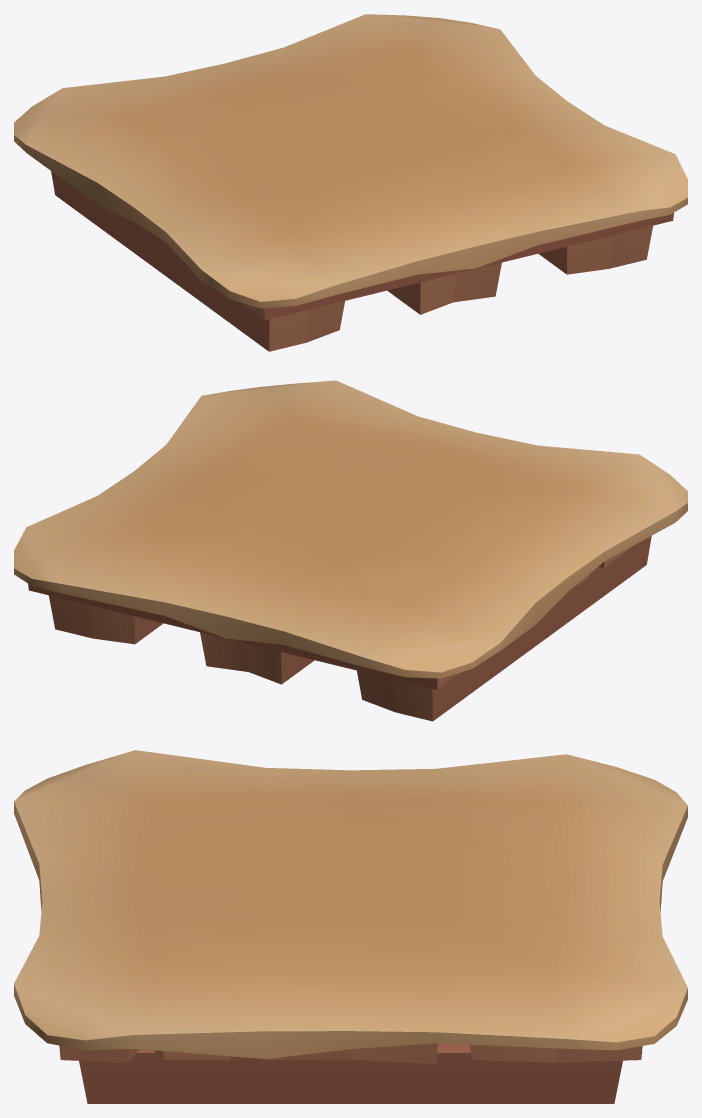
The model's file is pallet_wood_covered_a.glb.
The picture shows the model from 3 angles, top to bottom: view 1: azimuth 30°, elevation 25°; view 2: azimuth 150°, elevation 25°; view 3: azimuth 270°, elevation 25°; orthographic projection. The views are drawn at different scales.
Visible parts, largest first — view 1: Pallet_Wood_Covered_A; view 2: Pallet_Wood_Covered_A; view 3: Pallet_Wood_Covered_A.
Part boxes in pixels (bbox=[...]): Pallet_Wood_Covered_A: bbox=[14, 14, 687, 351]; Pallet_Wood_Covered_A: bbox=[14, 380, 687, 721]; Pallet_Wood_Covered_A: bbox=[14, 750, 687, 1103].
Bounding box in the file's own units: 1.72 × 0.2999 × 1.72.
1 material, 1 textured.
